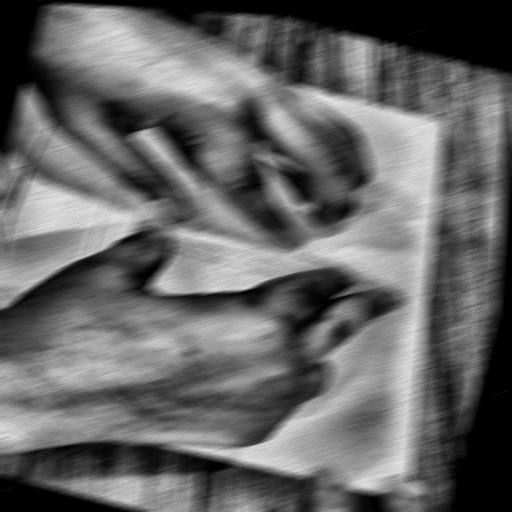boat: (0, 57, 462, 432)
top_right: (428, 113, 452, 127)
